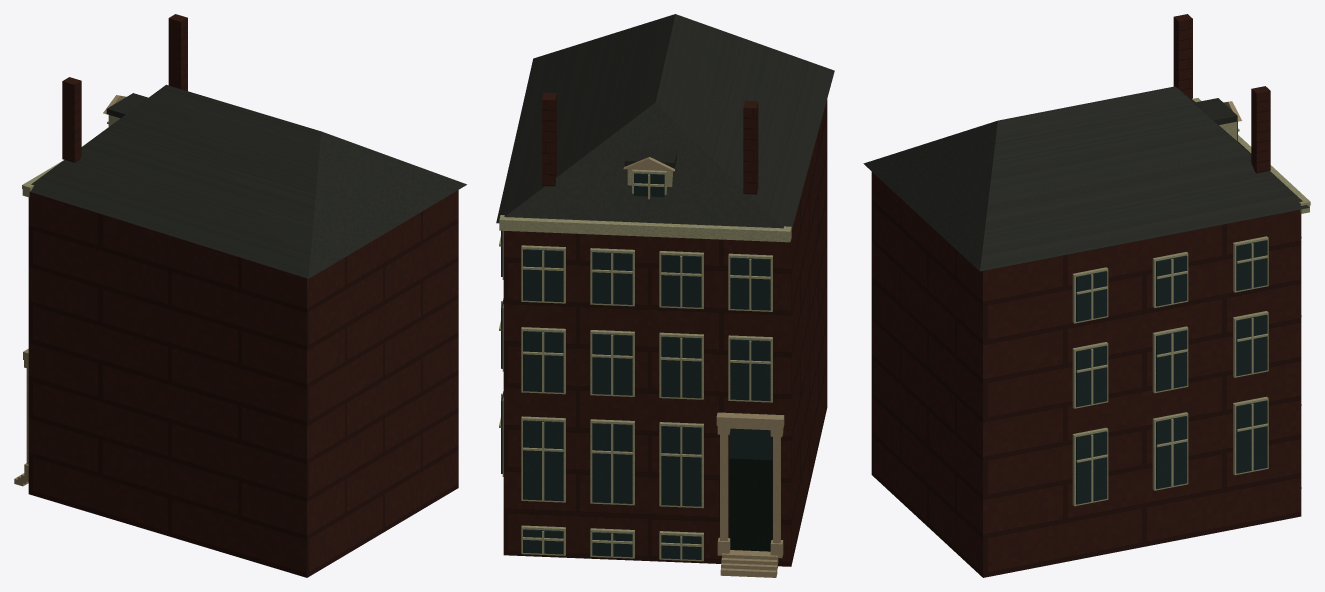
3 views of the same model, side by side, from view 1: azimuth 30°, elevation 25°; view 2: azimuth 150°, elevation 25°; view 3: azimuth 270°, elevation 25° (orthographic). The views are drawn at different scales.
Visible parts, largest first — view 1: wijnhaven62-pinto-0, wijnhaven62-pinto-1, wijnhaven62-pinto-3; view 2: wijnhaven62-pinto-0, wijnhaven62-pinto-1, wijnhaven62-pinto-4, wijnhaven62-pinto-2, wijnhaven62-pinto-3, wijnhaven62-pinto-5; view 3: wijnhaven62-pinto-0, wijnhaven62-pinto-1, wijnhaven62-pinto-4, wijnhaven62-pinto-2.
Boxes of the visible parts, x1,y1,x2,y2 form: wijnhaven62-pinto-0: (28, 14, 458, 577); wijnhaven62-pinto-1: (30, 84, 466, 278); wijnhaven62-pinto-3: (14, 95, 126, 486); wijnhaven62-pinto-0: (503, 92, 827, 566); wijnhaven62-pinto-1: (496, 14, 834, 229); wijnhaven62-pinto-4: (501, 173, 772, 559); wijnhaven62-pinto-2: (499, 169, 791, 561); wijnhaven62-pinto-3: (623, 157, 784, 577); wijnhaven62-pinto-5: (729, 458, 772, 551); wijnhaven62-pinto-0: (871, 14, 1301, 577); wijnhaven62-pinto-1: (863, 86, 1309, 271); wijnhaven62-pinto-4: (1076, 121, 1267, 504); wijnhaven62-pinto-2: (1072, 98, 1310, 506).
Bounding box in the file's own units: 15.47 × 17.7 × 17.26.
6 materials, 6 textured.
